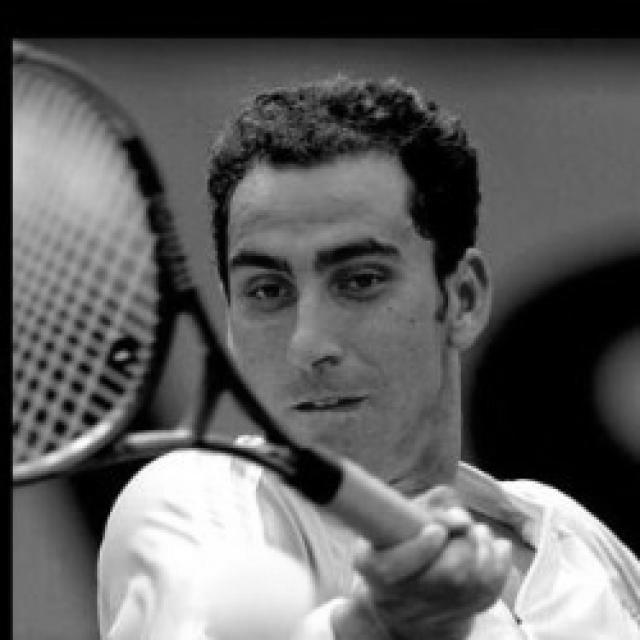real: (226, 152, 450, 450), (234, 255, 405, 314)
